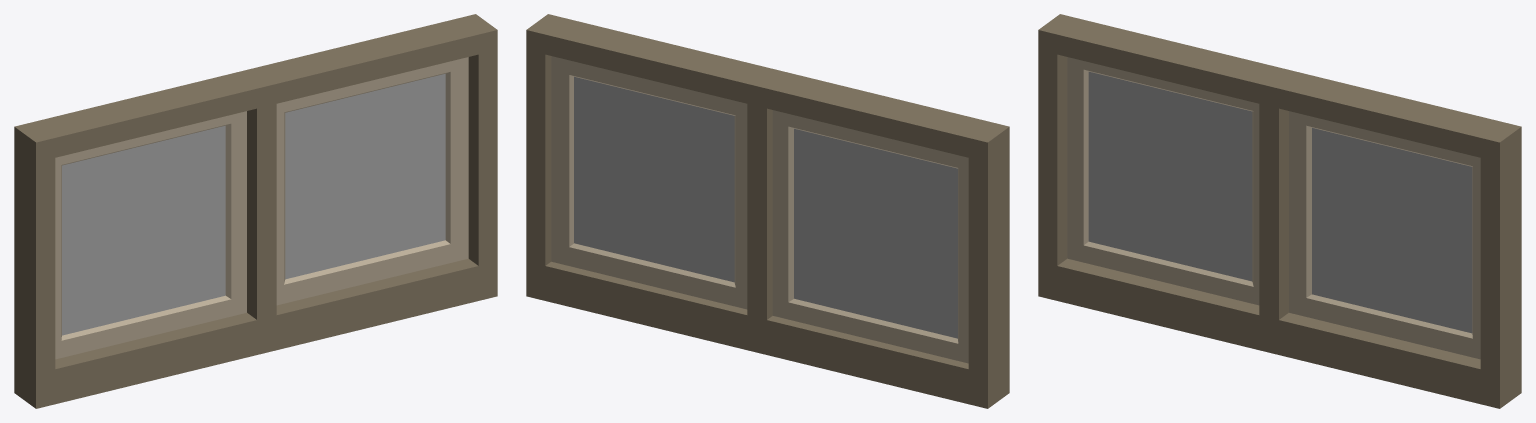
Rendered from window.fbx.
3 renders of one model, left to right at view 1: azimuth 30°, elevation 25°; view 2: azimuth 150°, elevation 25°; view 3: azimuth 330°, elevation 25°, orthographic.
Visible parts, largest first — view 1: window_02; view 2: window_02; view 3: window_02.
Boxes of the visible parts, left/top/right/bottom form: window_02: left=14, top=14, right=497, bottom=408; window_02: left=526, top=14, right=1009, bottom=408; window_02: left=1038, top=14, right=1521, bottom=408.
Size of the model in its own units: 279 by 154 by 22.8.
